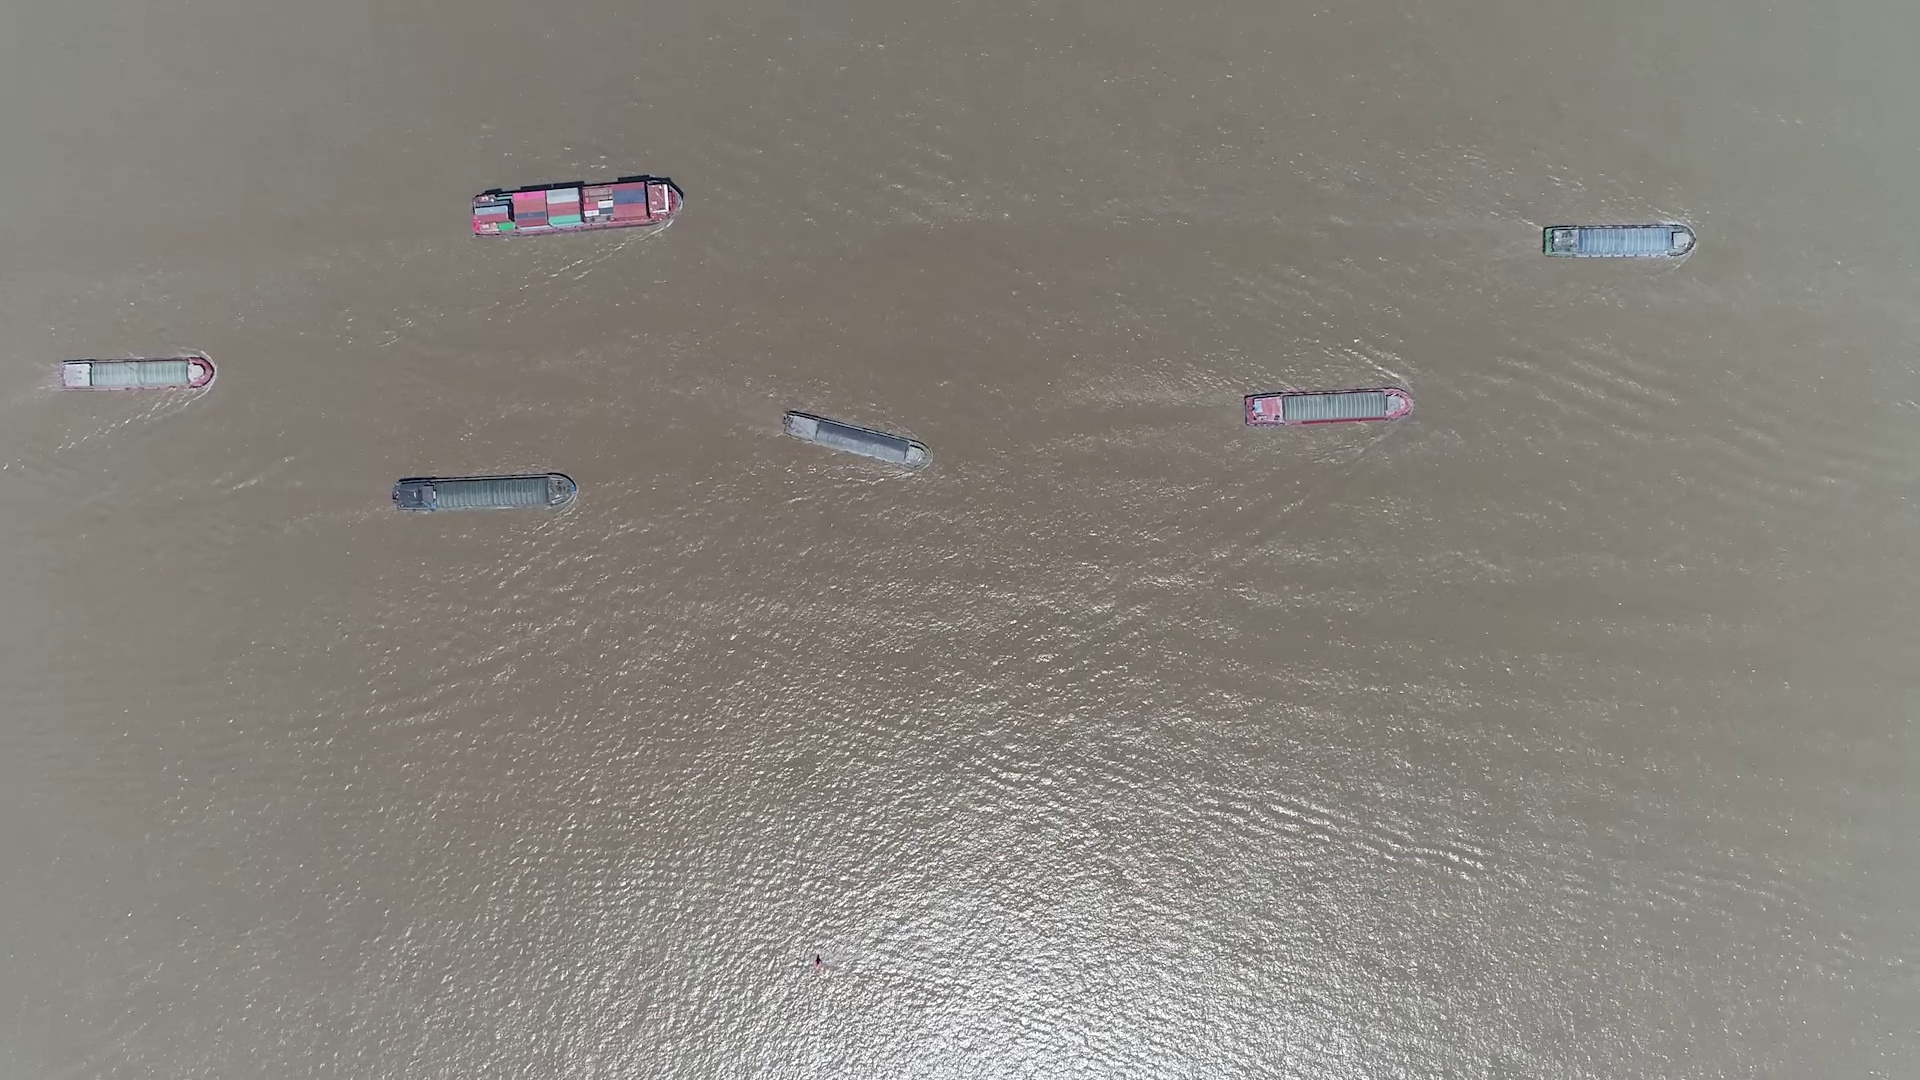ship: (469, 179, 680, 237), (782, 409, 928, 467), (394, 473, 575, 512), (1246, 386, 1414, 427), (55, 357, 214, 390), (1544, 225, 1692, 258)
